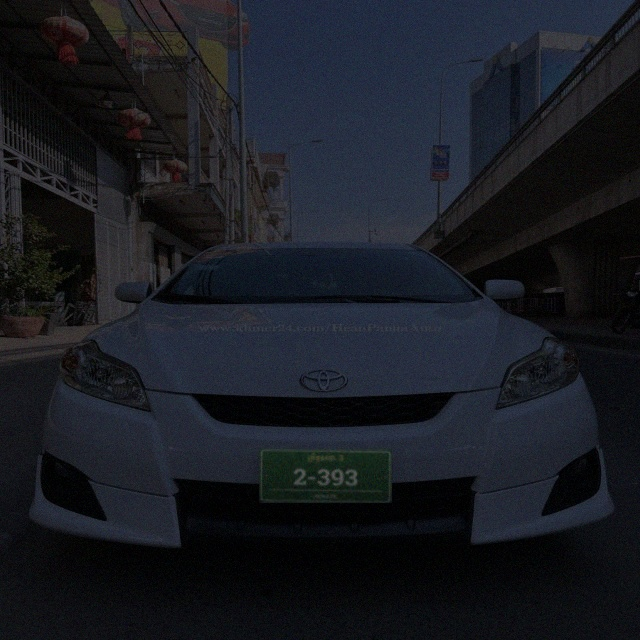Plate Number: (259, 449, 392, 504)
